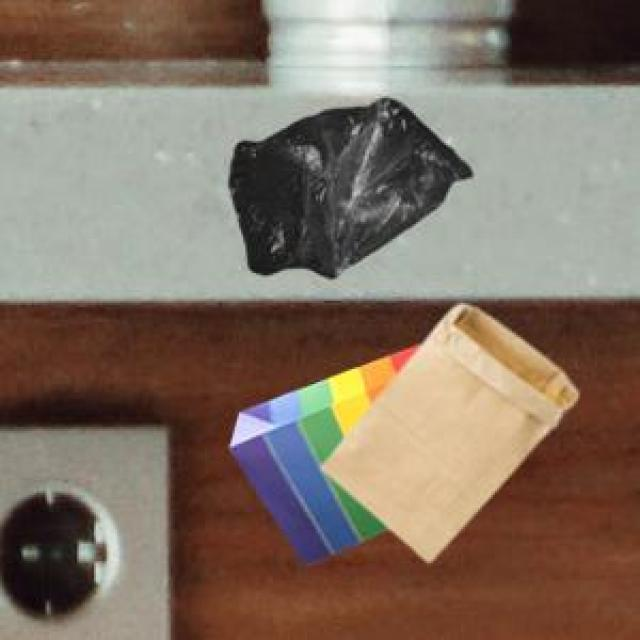paper: (318, 301, 574, 557), (226, 341, 416, 561)
